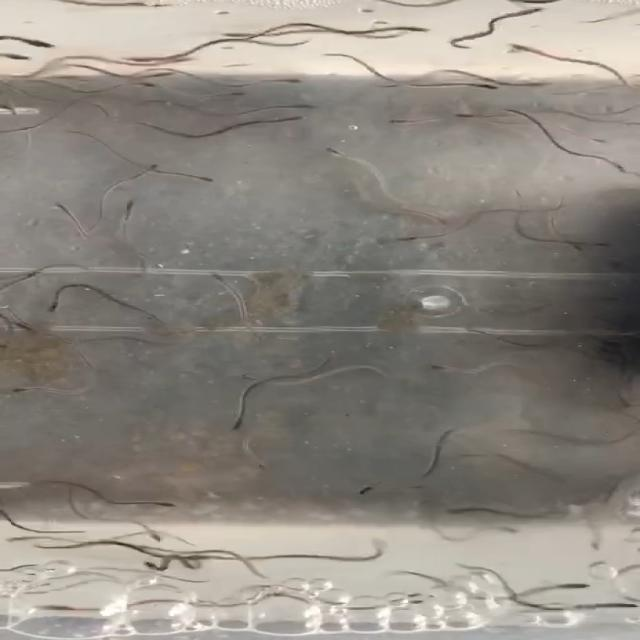active_glass_eel: (376, 224, 438, 254), (186, 172, 255, 198), (183, 264, 230, 286), (318, 139, 366, 160), (238, 461, 299, 477), (42, 196, 85, 216), (8, 380, 47, 402), (111, 190, 150, 209), (15, 34, 57, 51), (508, 41, 542, 61), (384, 114, 414, 136), (31, 296, 72, 312), (471, 81, 514, 96), (511, 6, 556, 20), (425, 358, 458, 377), (148, 502, 200, 514), (229, 368, 260, 388), (404, 19, 432, 41), (527, 77, 568, 92), (208, 83, 244, 100), (276, 74, 304, 95), (452, 107, 482, 126), (218, 410, 248, 429), (567, 244, 593, 265), (283, 111, 313, 128), (139, 558, 166, 575), (278, 102, 316, 114), (128, 76, 148, 94), (153, 69, 173, 87), (592, 237, 616, 252), (608, 164, 632, 178), (558, 580, 584, 591), (7, 52, 30, 64), (142, 162, 165, 173), (143, 536, 168, 546)
